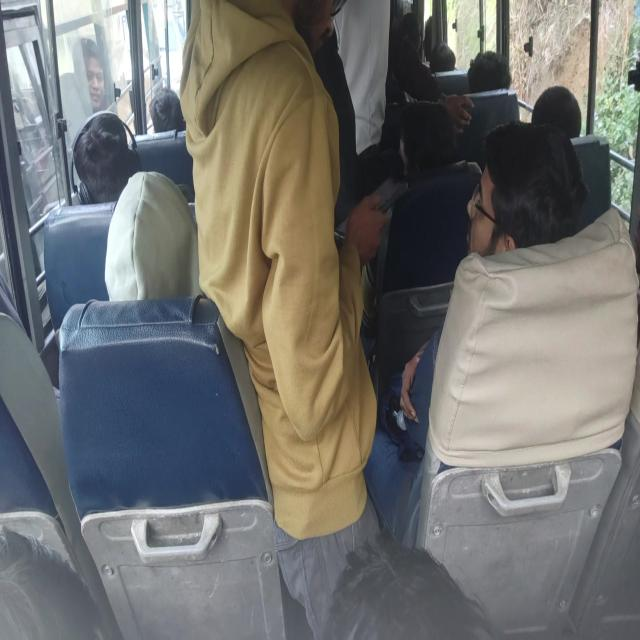person: (157, 0, 346, 383), (318, 518, 507, 640), (269, 0, 354, 212), (110, 173, 192, 322), (464, 146, 549, 266), (384, 0, 452, 136), (0, 536, 70, 639), (352, 0, 388, 160), (74, 107, 128, 190), (0, 273, 42, 332), (537, 77, 582, 132), (469, 42, 502, 82), (146, 93, 178, 124), (433, 30, 459, 66), (400, 20, 425, 55), (426, 14, 444, 37)
